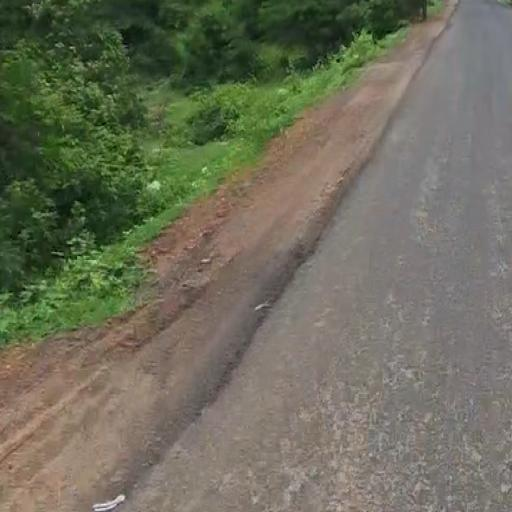edge_damage: (122, 194, 389, 495)
